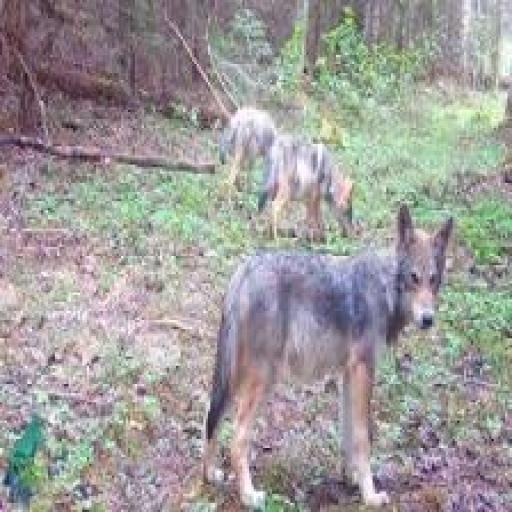wolf: (201, 201, 453, 511), (267, 126, 359, 244)
